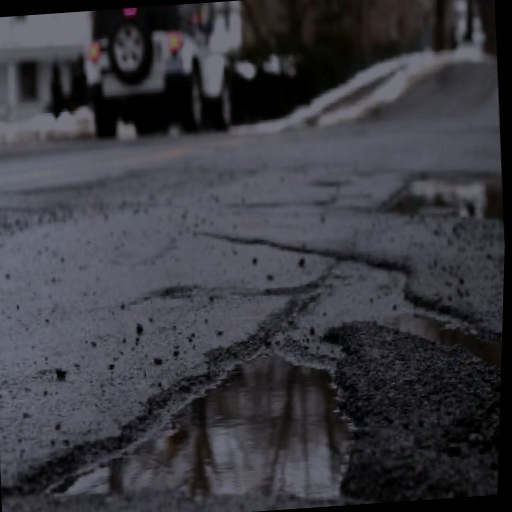pothole: (23, 323, 369, 512), (281, 236, 505, 386), (375, 164, 506, 232)
